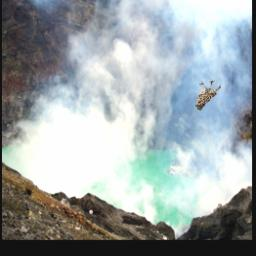Sparrow: (195, 80, 222, 111)
